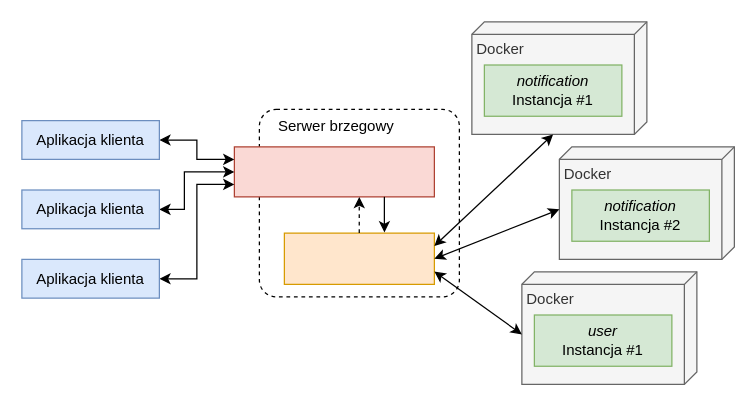
This 756x406 diagram has some shape labels left out. The shapes that lost their labels are listed below. From the top down, each one's centre as x and y in pixels, then its label:
At (333,171): "Główna brama API".
At (358,258): "Moduł równoważenia obciążenia".
